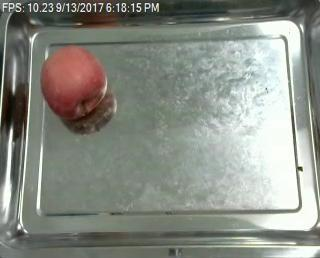apple: (40, 45, 107, 119)
